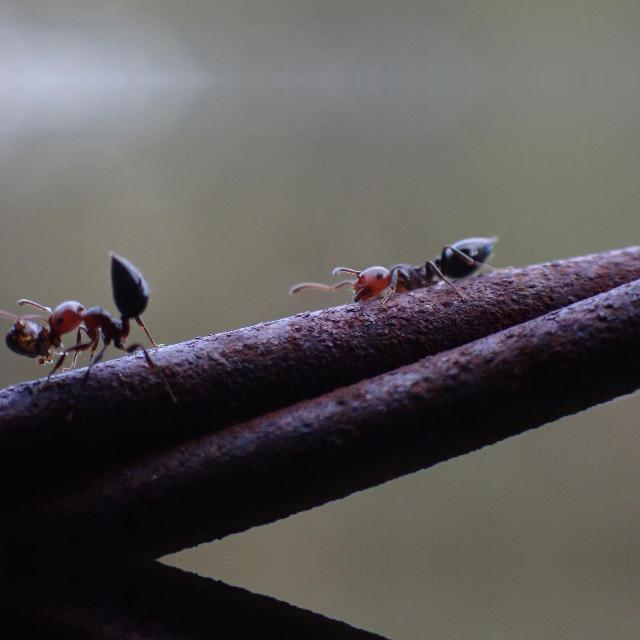Crematogaster: (319, 226, 501, 314), (42, 260, 174, 370)
